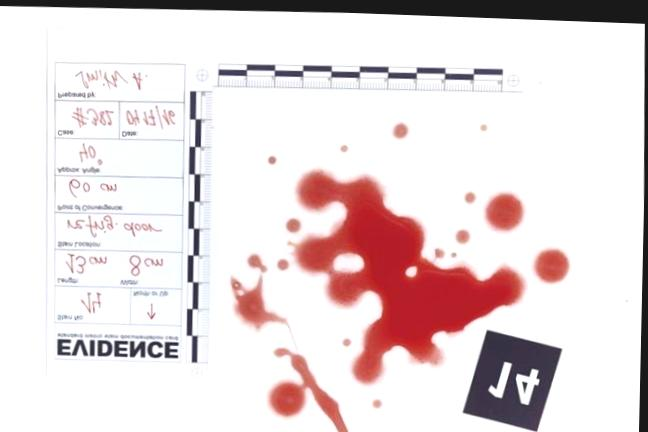Fire: (288, 166, 526, 382), (267, 346, 350, 432), (231, 272, 289, 330), (485, 190, 525, 229), (534, 245, 570, 280), (247, 253, 267, 271), (392, 119, 409, 136), (286, 216, 301, 231), (455, 226, 470, 241), (277, 256, 289, 269)
